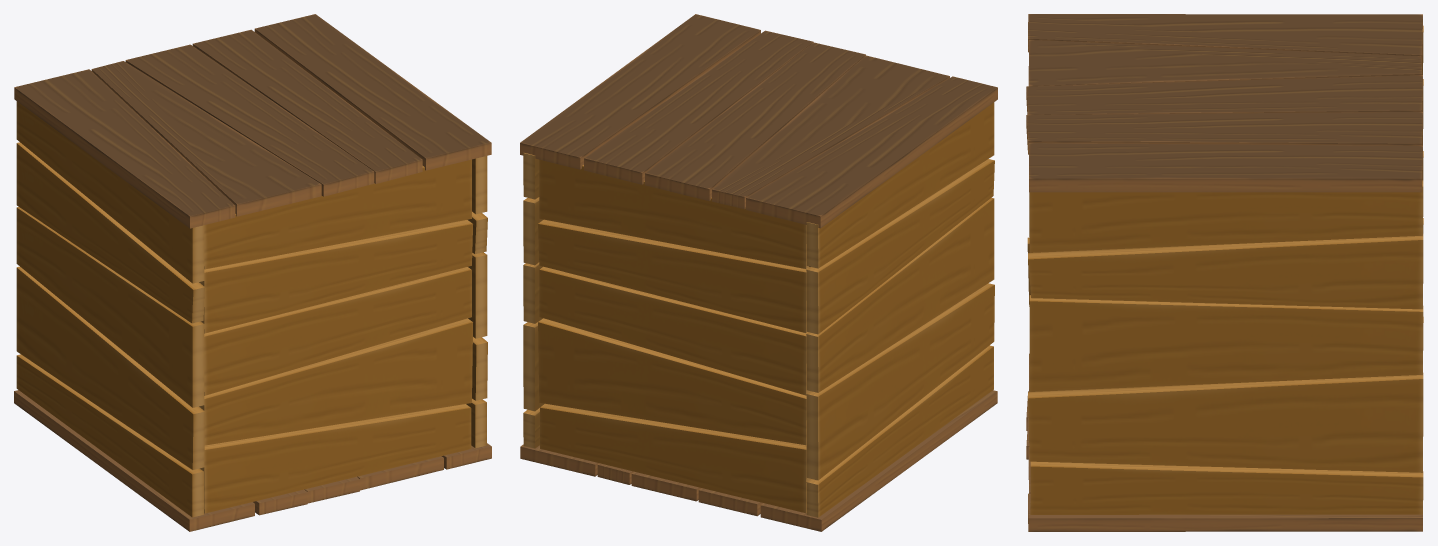
Rendered from SM_BigCrate.fbx.
The picture shows the model from 3 angles, left to right: view 1: azimuth 30°, elevation 25°; view 2: azimuth 150°, elevation 25°; view 3: azimuth 270°, elevation 25°; orthographic projection. The views are drawn at different scales.
Parts seen in each view (by area): view 1: BigCrate; view 2: BigCrate; view 3: BigCrate.
Part boxes in pixels (<box>): BigCrate: <box>14,14,491,531</box>; BigCrate: <box>520,14,997,531</box>; BigCrate: <box>1026,14,1423,531</box>.
Size of the model in its own units: 100 by 100 by 102.
